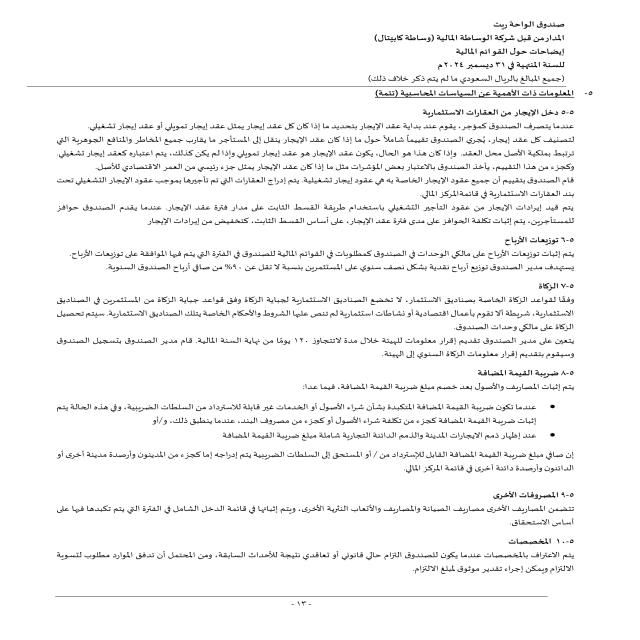notes: (438, 48, 570, 59)
text: (25, 105, 588, 591)
